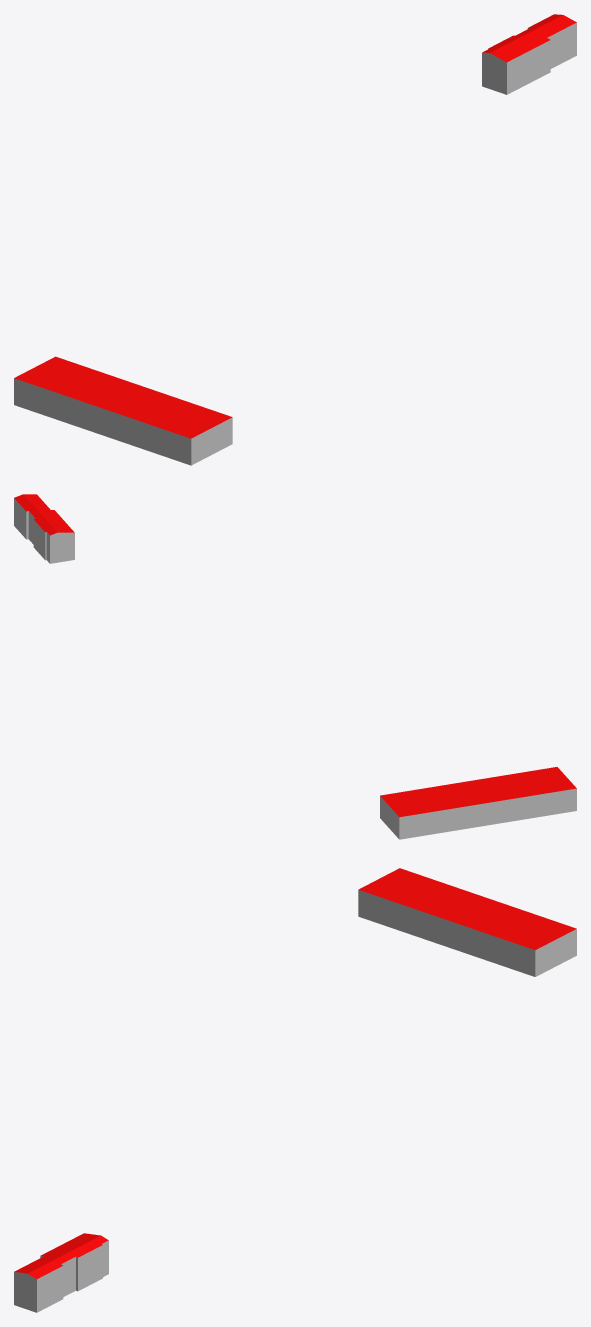
The picture shows the model from 3 angles, top to bottom: view 1: azimuth 90°, elevation 25°; view 2: azimuth 150°, elevation 25°; view 3: azimuth 270°, elevation 25°; orthographic projection. The views are drawn at different scales.
Bounding box in the file's own units: 200 × 8.05 × 114.
